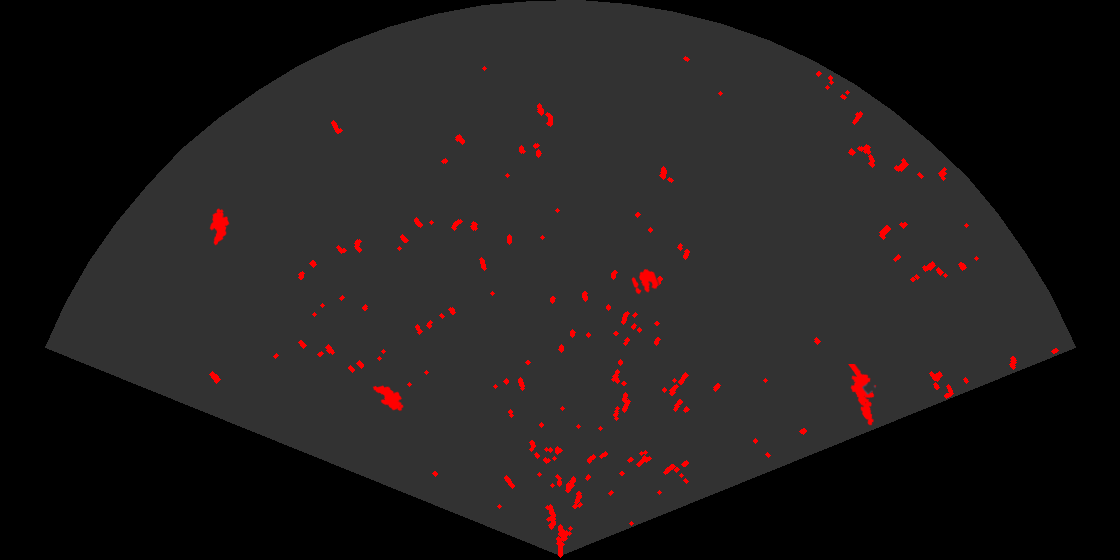AUV: (371, 384, 405, 413), (208, 207, 231, 247)
ball: (630, 267, 660, 296)
frogman: (847, 364, 878, 427)
